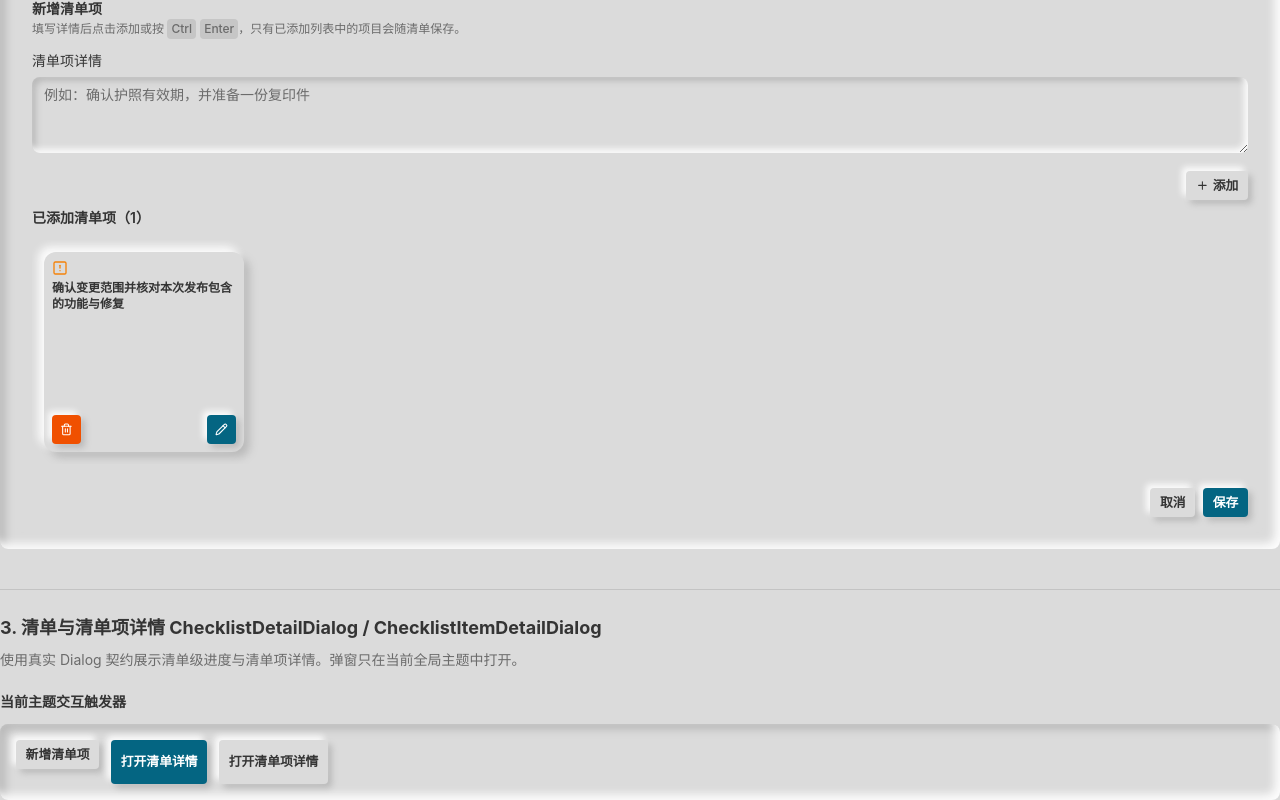
ChecklistWorkflowDemo › opens the real item detail dialog and closes it
(page scrolled)
Click the button "打开清单项详情" at (274, 762), box x1=219 y1=740 x2=328 y2=784
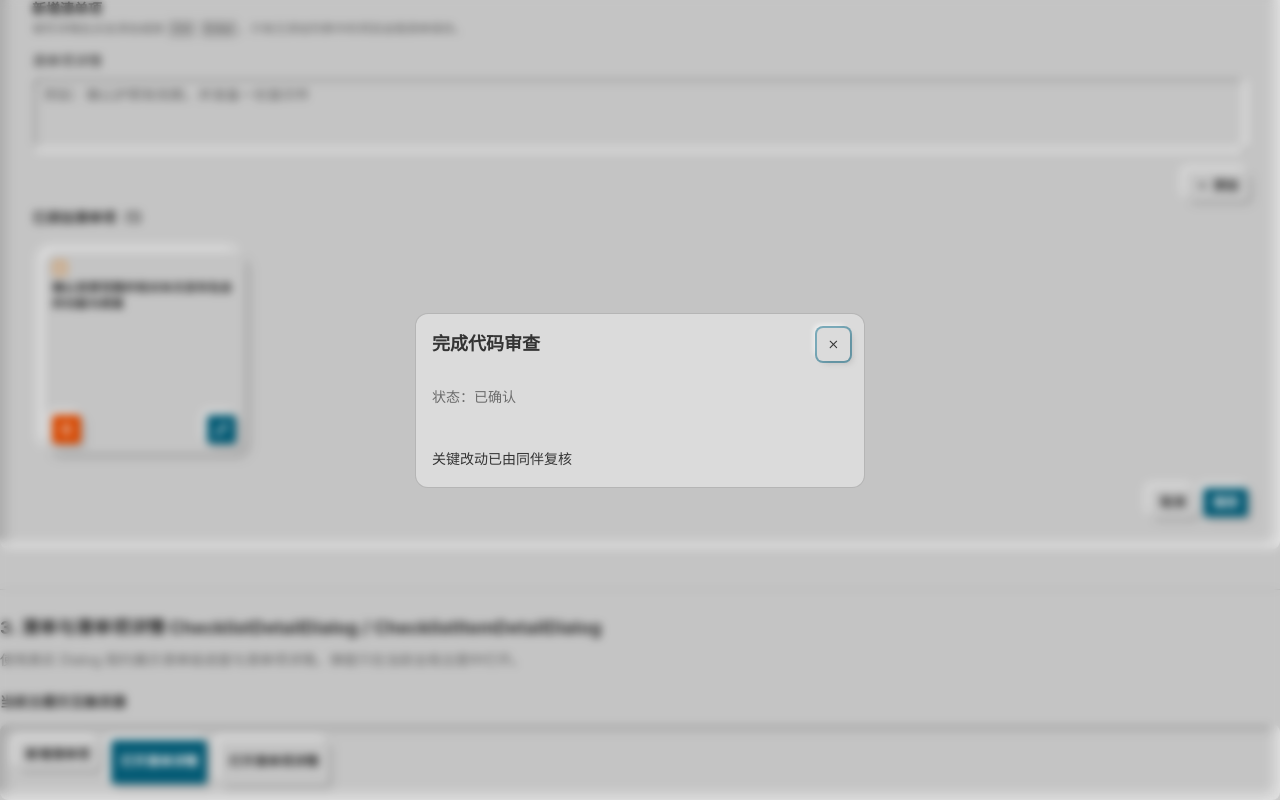
expect the heading "完成代码审查" is shown: met, box x1=432 y1=330 x2=540 y2=358
expect the text "关键改动已由同伴复核" is shown: met, box x1=432 y1=450 x2=572 y2=466
Click the button named "关闭" at (834, 344), box x1=819 y1=330 x2=848 y2=358
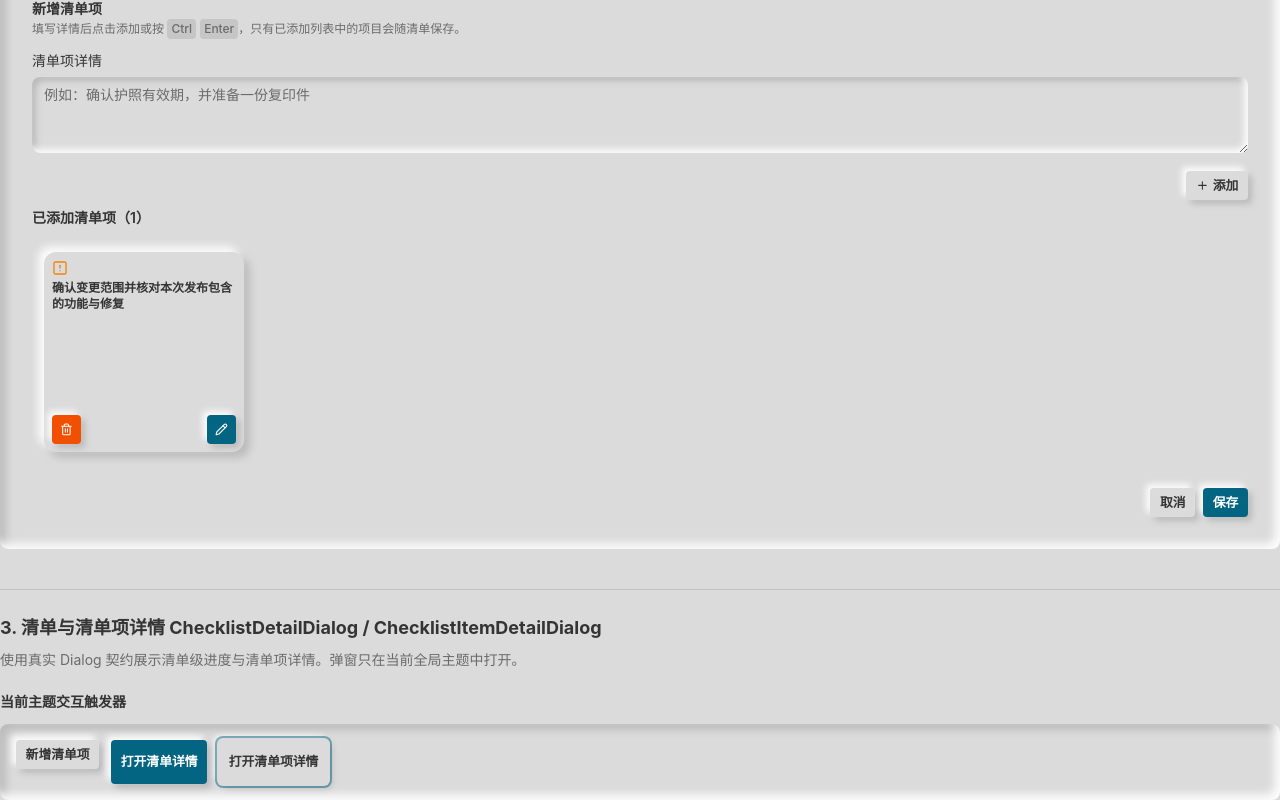
expect the dialog is gone: met
